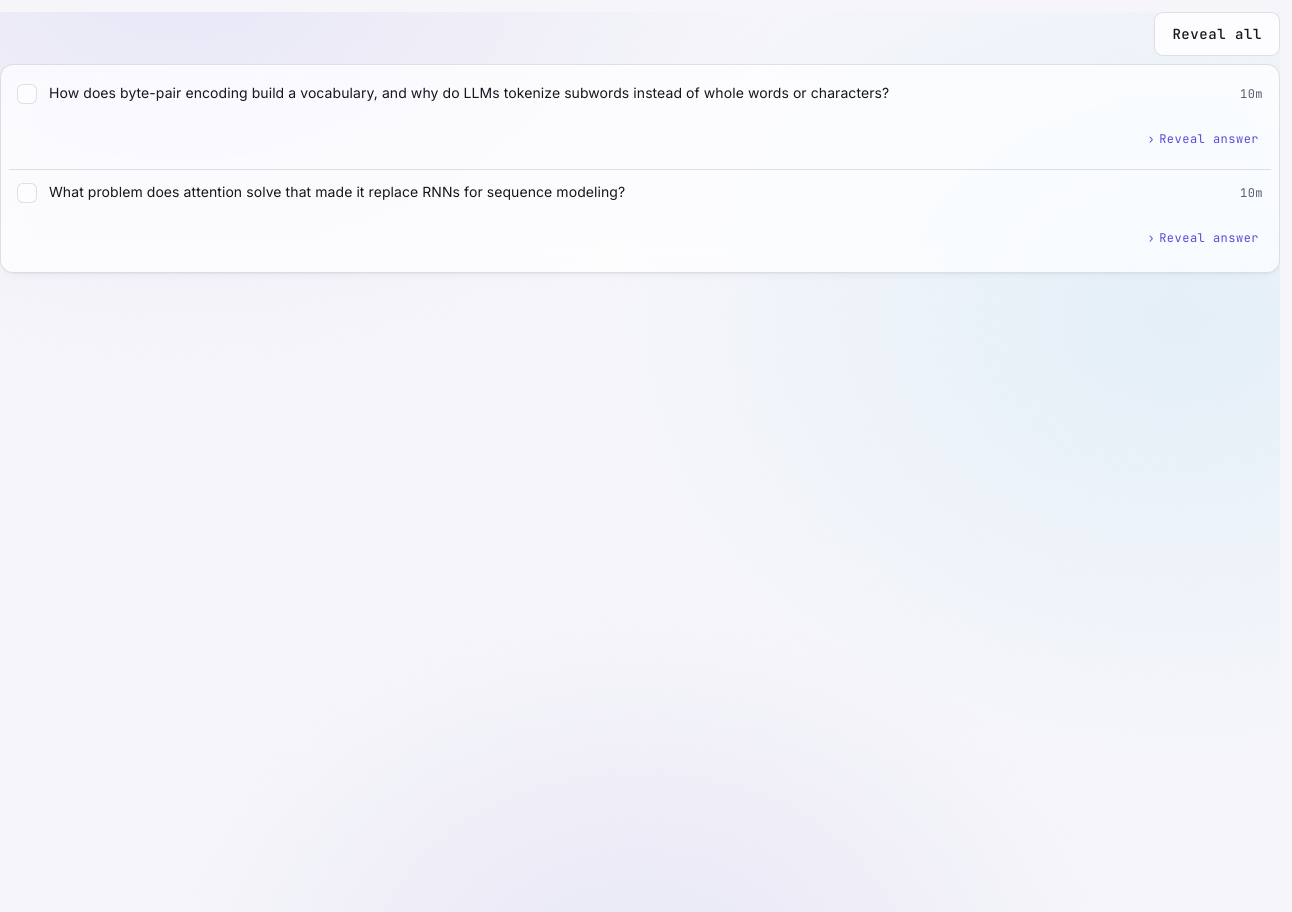
TopicQuestions › reveals one question without affecting the others
Step 1. Click the 1st button "› Reveal answer" → (1203, 139), box [1144,117,1263,161]
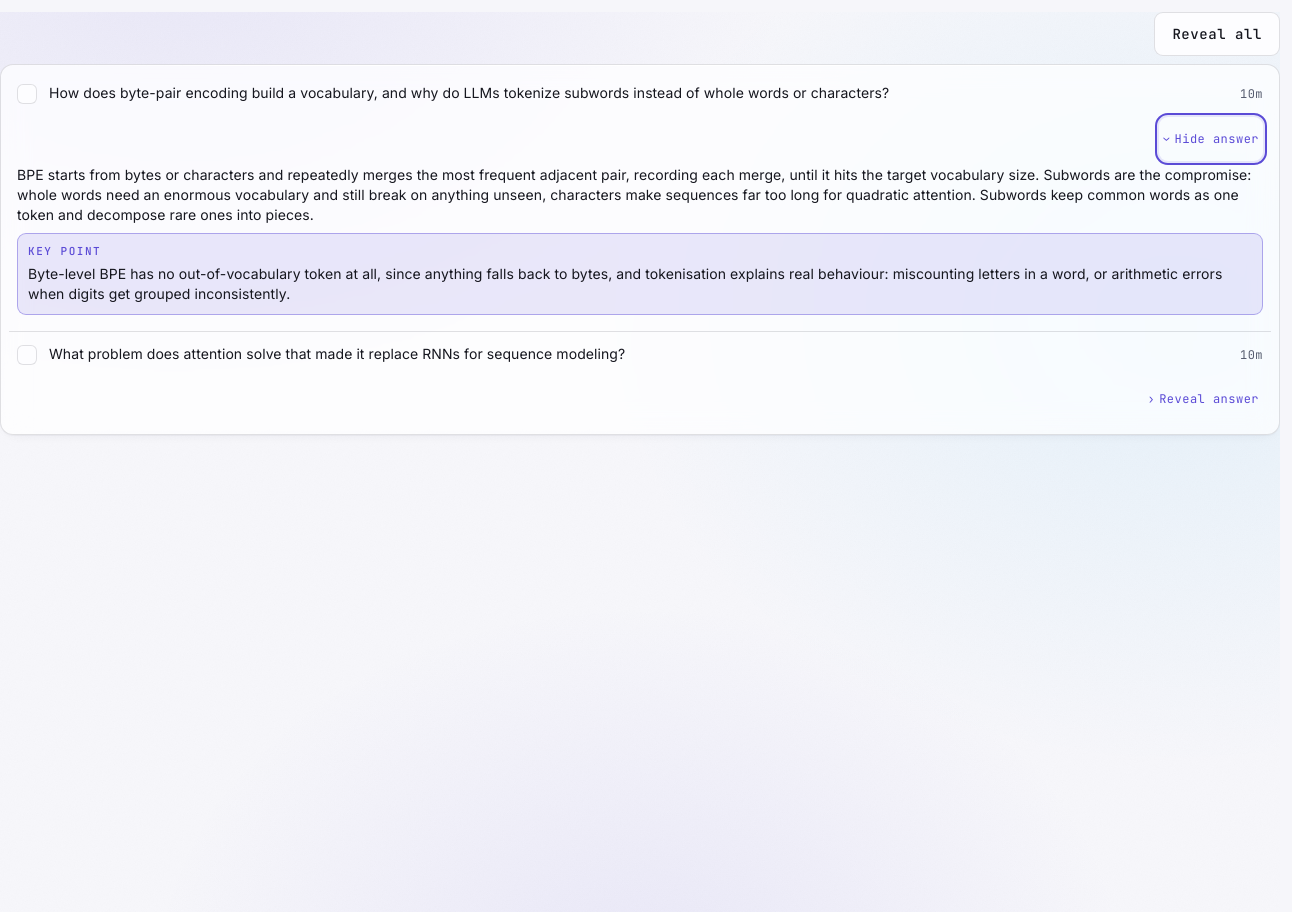
expect the text "BPE starts from bytes or characters and repeatedly merges the most frequent adjacent pair, recording each merge, until i" is shown: met, box [17,166,1252,223]
expect the text "Byte-level BPE has no out-of-vocabulary token at all, since anything falls back to bytes, and tokenisation explains real" is shown: met, box [28,265,1222,302]
